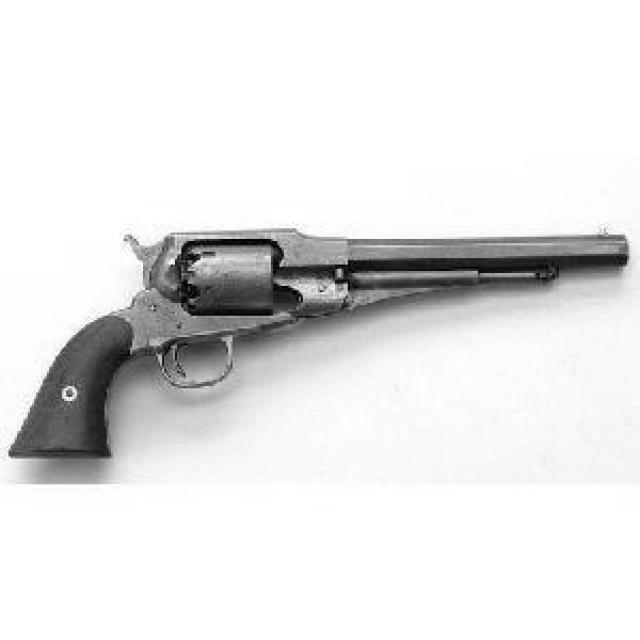gun: (12, 221, 633, 457)
